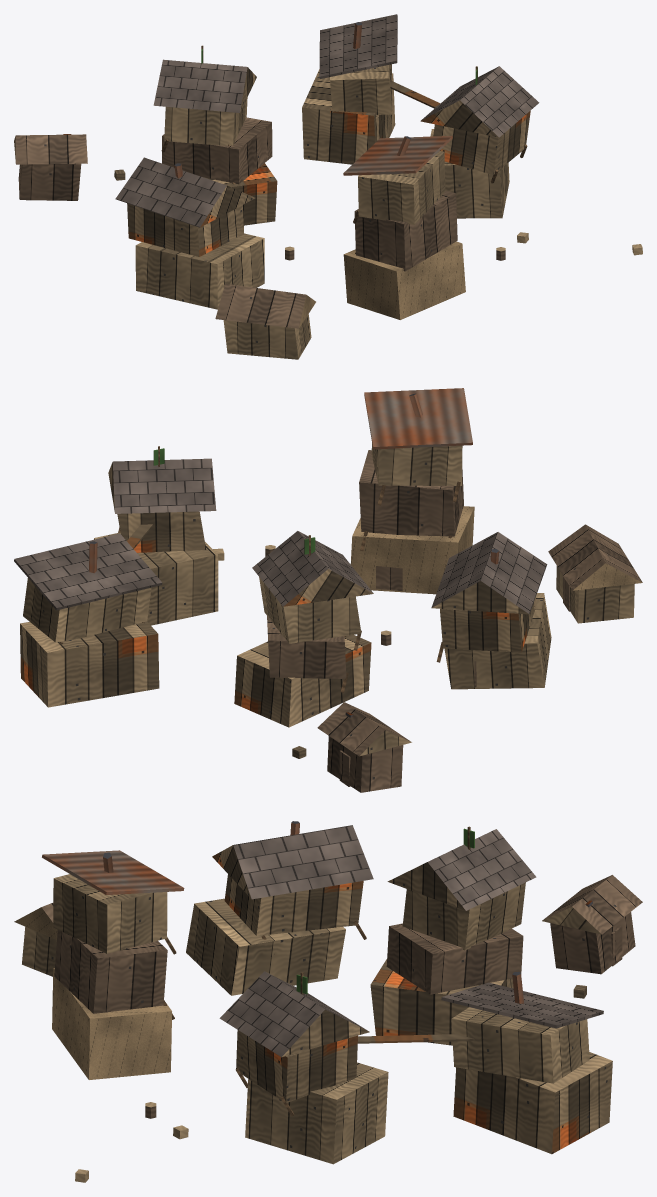
File: cm_goblin_burgher_c.glb
3 renders of one model, top to bottom at view 1: azimuth 30°, elevation 25°; view 2: azimuth 150°, elevation 25°; view 3: azimuth 270°, elevation 25°, orthographic. The views are drawn at different scales.
Visible parts, largest first — view 1: cm_goblin_burgher_c; view 2: cm_goblin_burgher_c; view 3: cm_goblin_burgher_c.
Part boxes in pixels (<box>): cm_goblin_burgher_c: <box>14,14,642,359</box>; cm_goblin_burgher_c: <box>14,388,642,792</box>; cm_goblin_burgher_c: <box>14,821,642,1182</box>.
Bounding box in the file's own units: 1.65 × 0.6156 × 1.74.
1 material, 1 textured.
